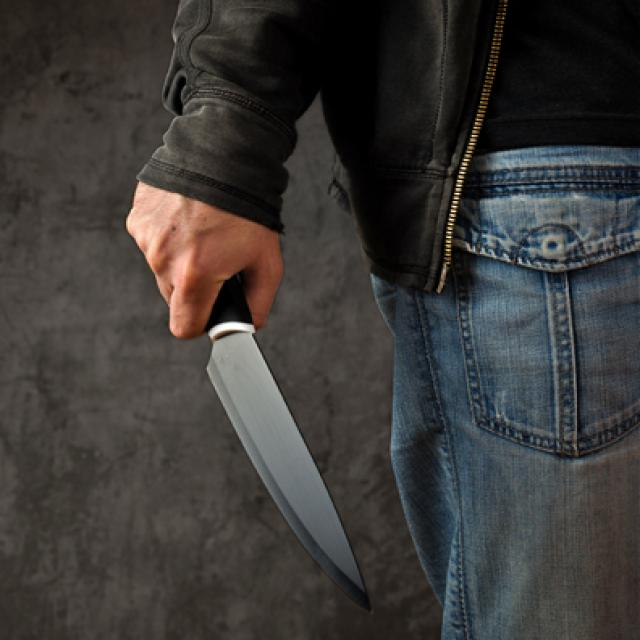knife: (205, 275, 381, 622)
